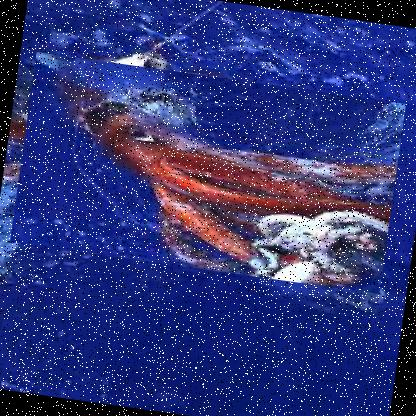colossal_squid: (8, 49, 406, 292)
